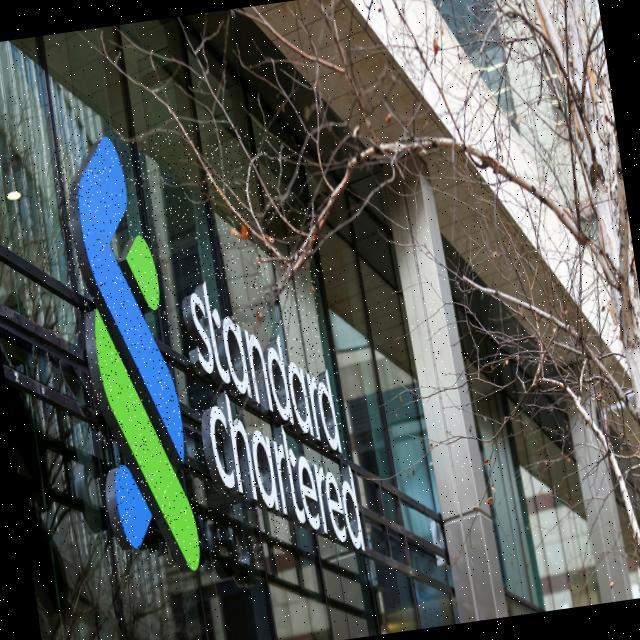Standard Chartered: (52, 110, 363, 584)
